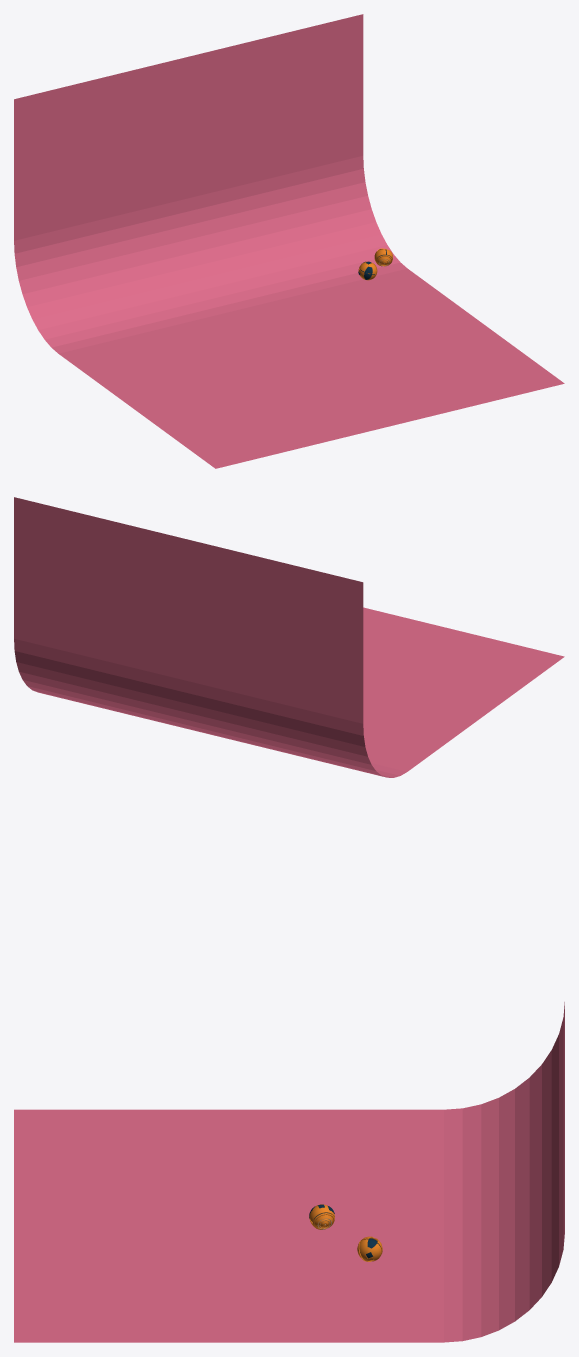
File: uploads_files_2775463_scifi_drone.fbx
3 renders of one model, top to bottom at view 1: azimuth 30°, elevation 25°; view 2: azimuth 150°, elevation 25°; view 3: azimuth 270°, elevation 25°, orthographic. The views are drawn at different scales.
Visible parts, largest first — view 1: Plane; view 2: Plane; view 3: Plane.
Boxes of the visible parts, box(x1,y1,x2,y2) form: Plane: box(14, 14, 564, 468); Plane: box(14, 497, 564, 777); Plane: box(14, 1002, 564, 1342).
Size of the model in its own units: 4295 by 2608 by 4295.
